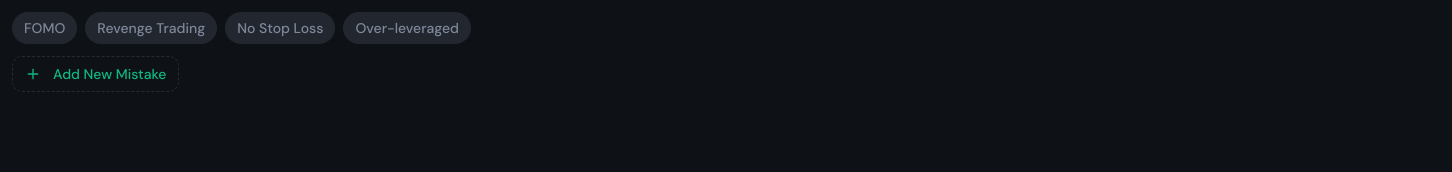
Test case: MistakeTagsInput › cancels adding when Escape is pressed
Click the button "Add New Mistake" at (96, 74), box x1=12 y1=56 x2=180 y2=92
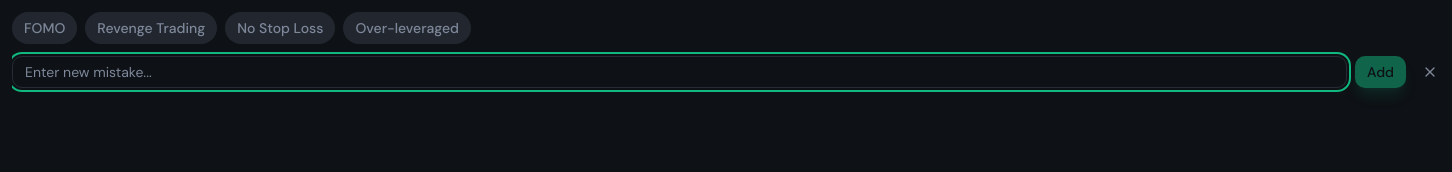
Check: the field with placeholder "Enter new mistake..." is shown, box x1=12 y1=56 x2=1347 y2=88
Press Escape
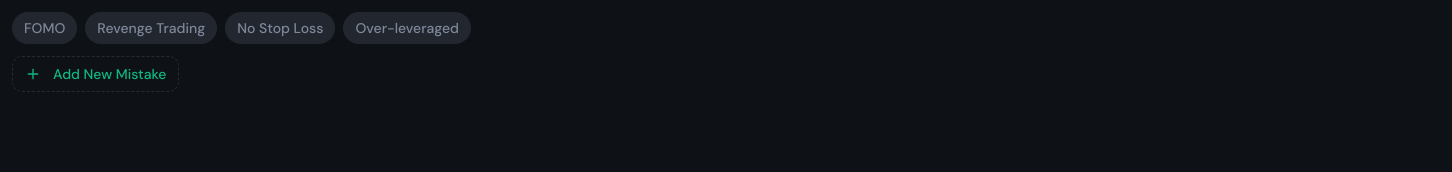
Check: the field with placeholder "Enter new mistake..." is not shown
Check: the button "Add New Mistake" is shown, box x1=12 y1=56 x2=180 y2=92
